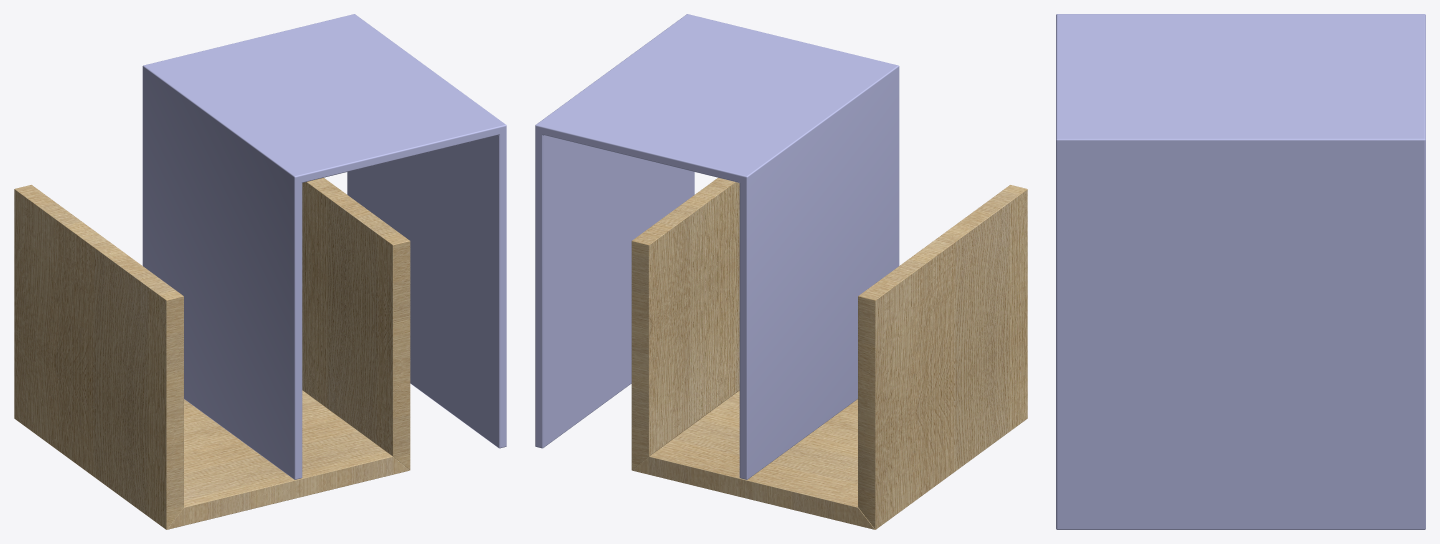
Rendered from Table.glb.
The picture shows the model from 3 angles, left to right: view 1: azimuth 30°, elevation 25°; view 2: azimuth 150°, elevation 25°; view 3: azimuth 270°, elevation 25°; orthographic projection. The views are drawn at different scales.
Visible parts, largest first — view 1: Table-2; view 2: Table-2; view 3: Table-2.
Part boxes in pixels (x1,y1,x2,y2): Table-2: [14, 14, 506, 529]; Table-2: [535, 14, 1027, 529]; Table-2: [1056, 14, 1425, 529].
Size of the model in its own units: 465 by 421 by 360.
3 materials, 1 textured.
